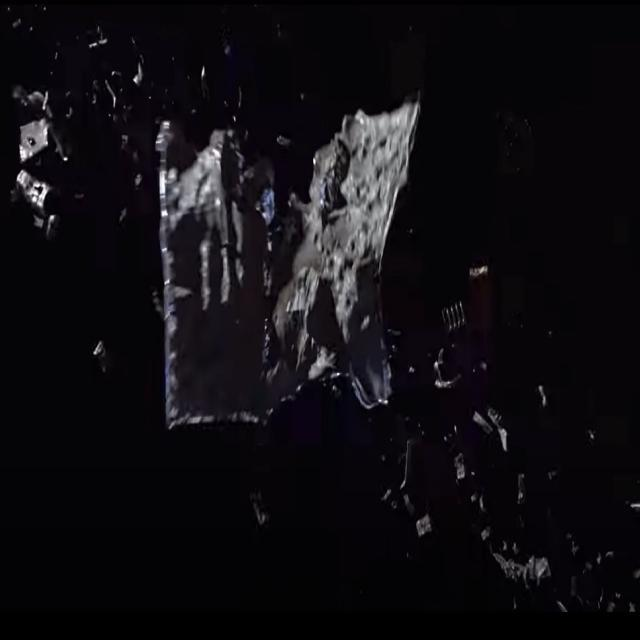large_debris: (152, 89, 405, 422), (10, 82, 74, 158), (18, 169, 74, 236), (491, 550, 560, 599), (382, 444, 414, 514), (473, 395, 510, 451), (427, 350, 466, 402), (89, 28, 122, 72), (440, 296, 467, 340), (104, 77, 125, 133), (453, 452, 474, 494), (413, 509, 435, 549), (468, 261, 496, 291)
